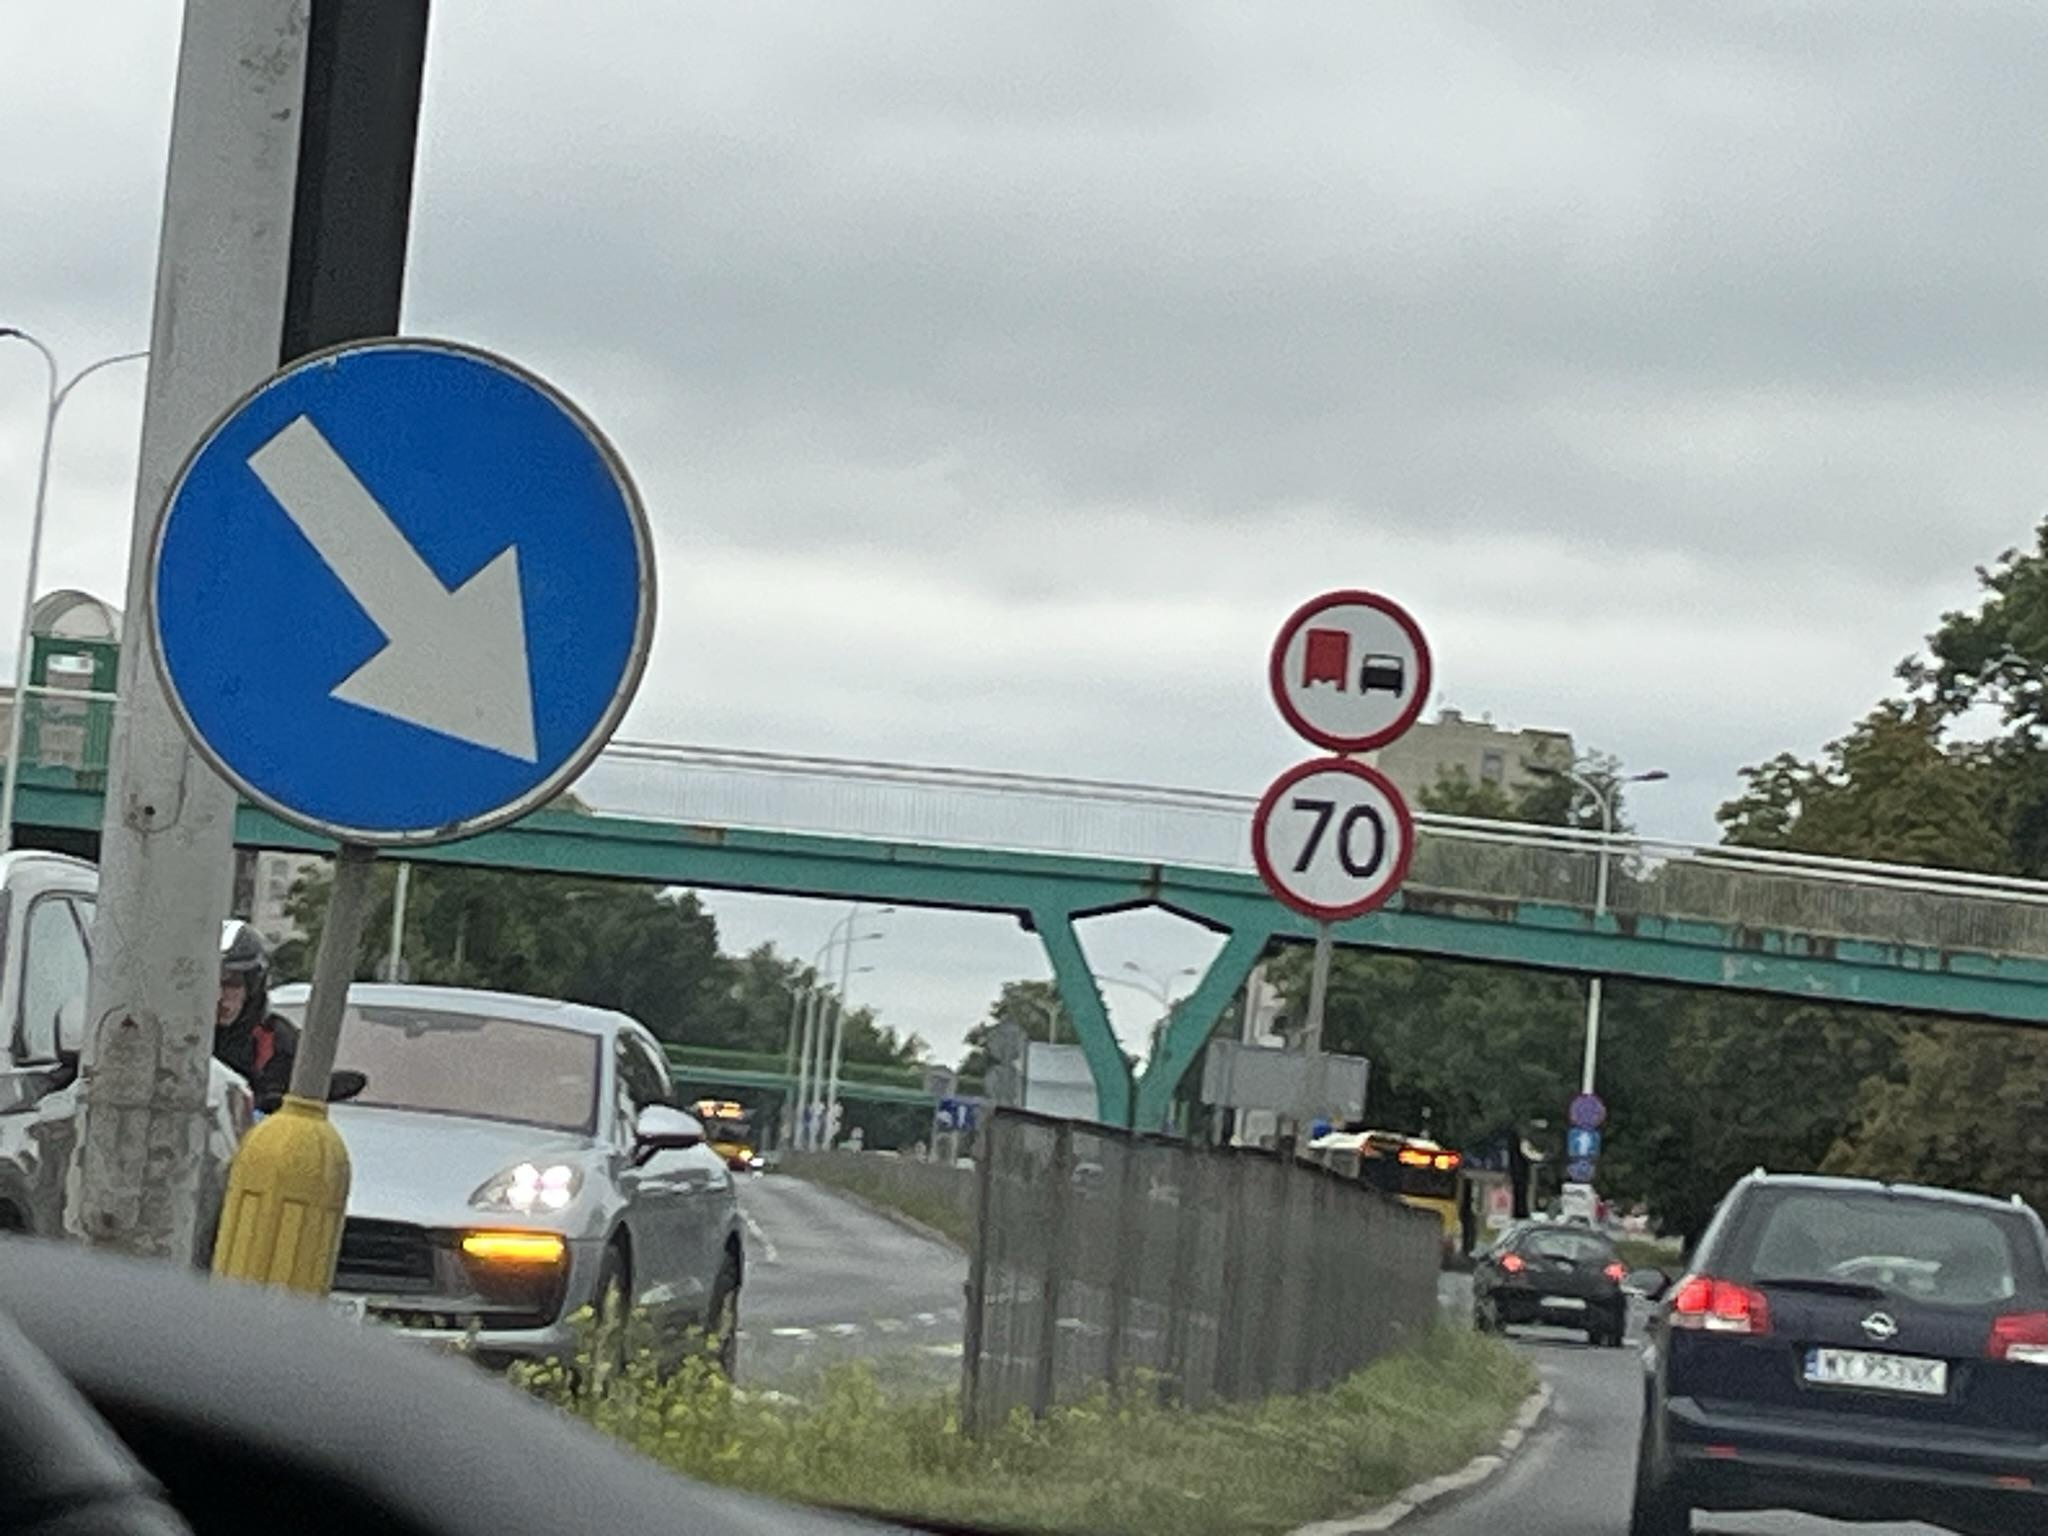information: (1567, 1129, 1601, 1158)
mandatory: (142, 331, 658, 852)
prohibitory: (1268, 586, 1434, 753), (1250, 757, 1416, 921), (1569, 1094, 1606, 1129)
